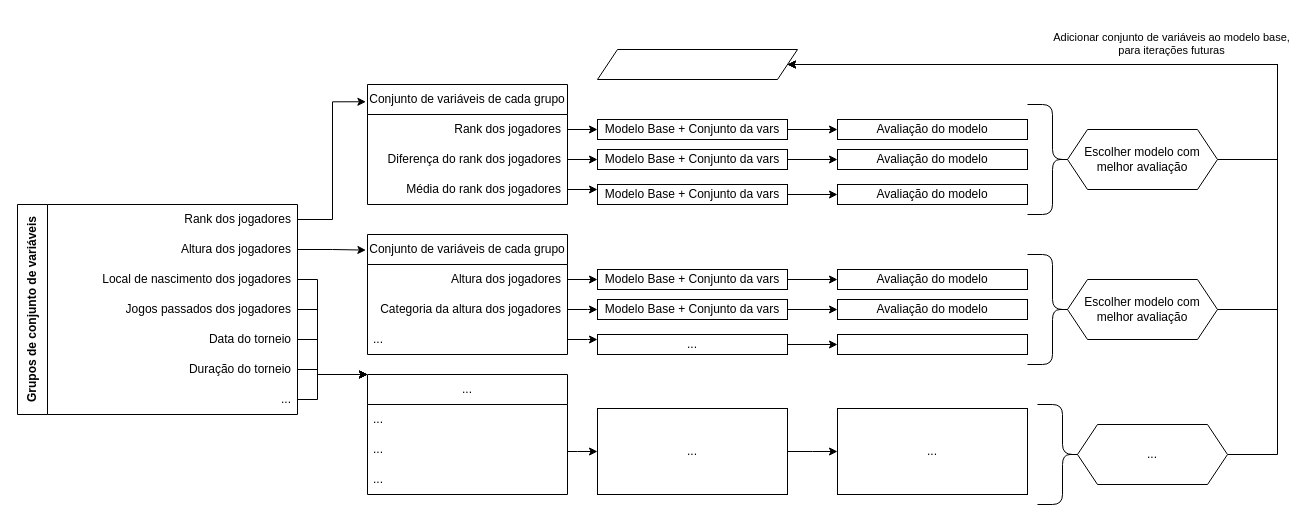
The diagram is 1307 pixels wide and 522 high, and some of its shapes have lost their labels. Here are the shapes that lost their labels. From the top down, the centre of each, then its label:
the point at 697,64: Modelo Base
the point at 932,344: Avaliação dos modelos
